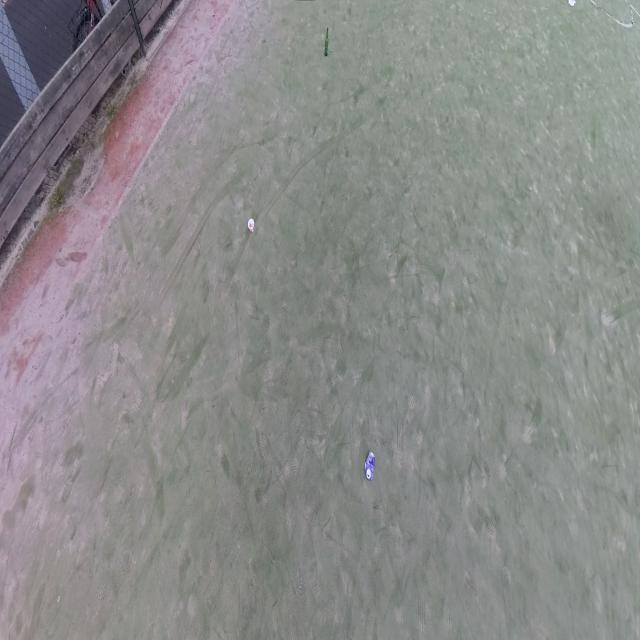rubbish: (364, 451, 375, 481), (324, 27, 328, 55), (247, 219, 254, 234), (567, 0, 577, 9)
